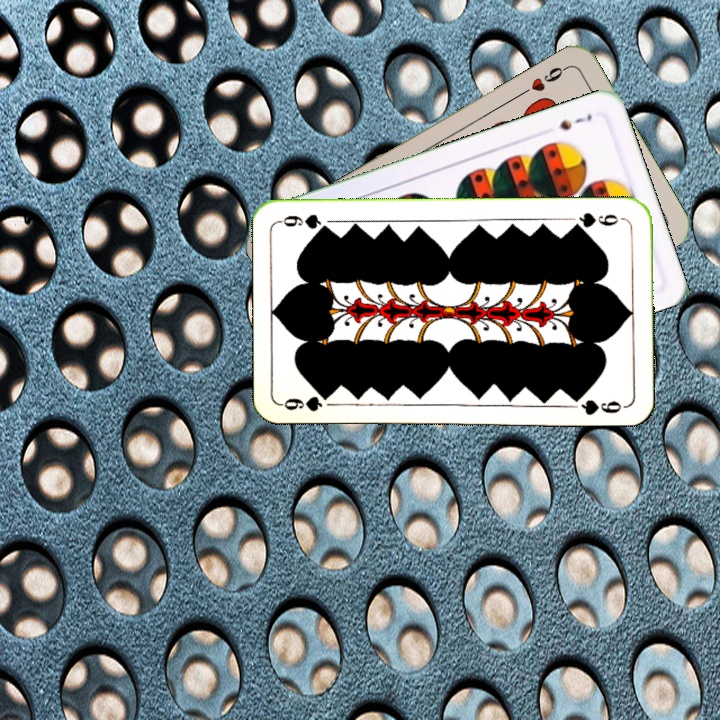G9: (567, 208, 626, 231), (278, 392, 333, 414)
H9: (518, 62, 571, 98)
S7: (555, 109, 595, 133)
